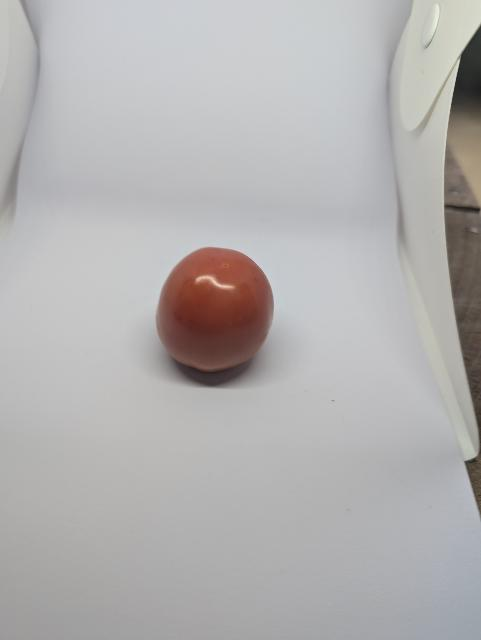red: (149, 235, 286, 387)
